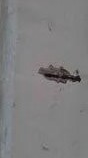Exposed reinforcement: (43, 73, 81, 82)
Spalling: (37, 63, 82, 84)
